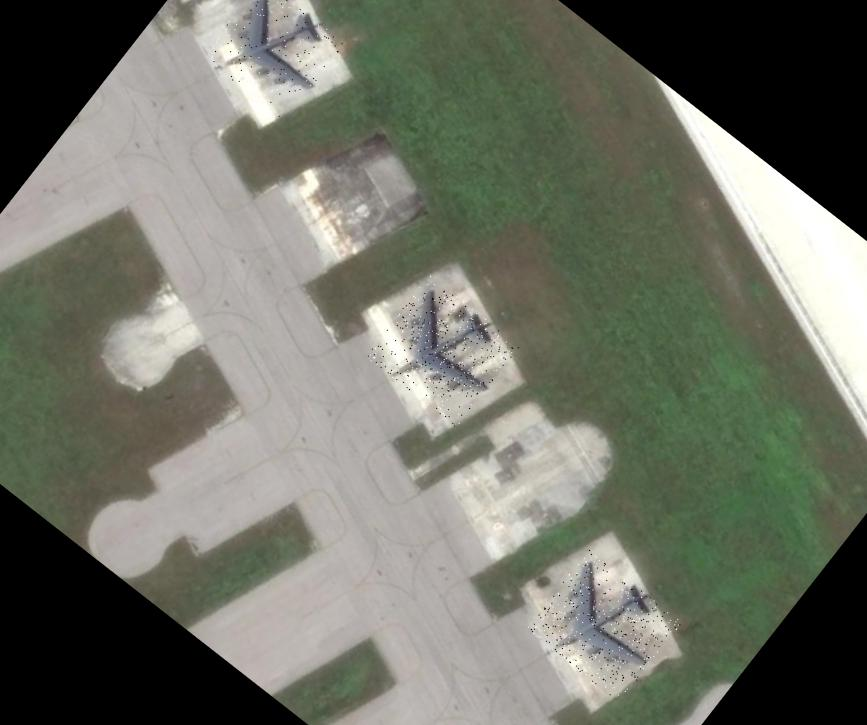A8: (525, 548, 682, 702), (364, 274, 519, 427), (200, 0, 346, 121)
